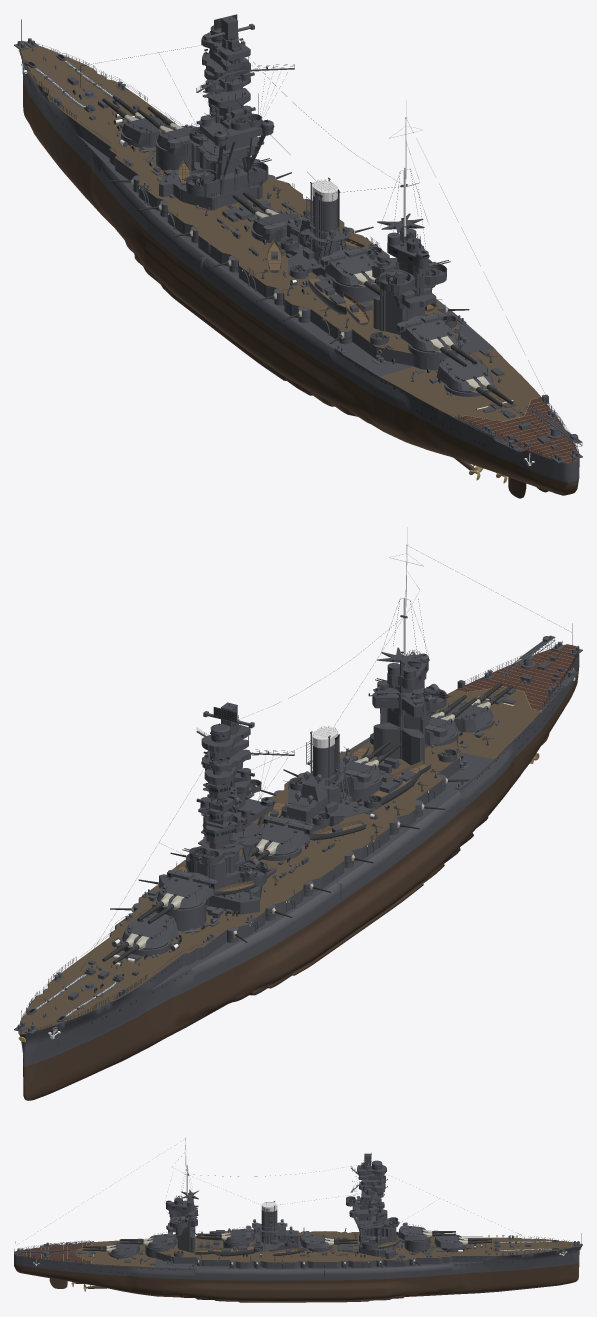
The model's file is fuso.glb.
3 renders of one model, top to bottom at view 1: azimuth 30°, elevation 25°; view 2: azimuth 150°, elevation 25°; view 3: azimuth 270°, elevation 25°, orthographic. The views are drawn at different scales.
Visible parts, largest first — view 1: Blueprint lofted hull, main-5.yaw.mesh, deckhouse-059.mesh, main-4.yaw.mesh, main-6.yaw.mesh, funnel-fittings.mesh, deckhouse-176.mesh, main-3.yaw.mesh, main-1.yaw.mesh, main-2.yaw.mesh, funnel.mesh, deck-rails.mesh (+8 smaller); view 2: Blueprint lofted hull, main-2.yaw.mesh, main-3.yaw.mesh, deckhouse-176.mesh, main-1.yaw.mesh, deckhouse-059.mesh, main-6.yaw.mesh, main-4.yaw.mesh, funnel-fittings.mesh, deck-rails.mesh, main-2.mesh, motor-boat-port.mesh (+2 smaller); view 3: Blueprint lofted hull, main-4.yaw.mesh, main-2.yaw.mesh, main-3.yaw.mesh, main-5.yaw.mesh, main-1.yaw.mesh, funnel.mesh, main-6.yaw.mesh, deckhouse-059.mesh, funnel-fittings.mesh, motor-boat-starboard.mesh, deckhouse-176.mesh (+4 smaller).
Boxes of the visible parts, x1,y1,x2,y2 form: Blueprint lofted hull: [19, 40, 579, 495]; main-5.yaw.mesh: [397, 312, 457, 351]; deckhouse-059.mesh: [159, 159, 262, 210]; main-4.yaw.mesh: [320, 246, 373, 285]; main-6.yaw.mesh: [436, 352, 493, 391]; funnel-fittings.mesh: [310, 177, 339, 250]; deckhouse-176.mesh: [373, 296, 424, 335]; main-3.yaw.mesh: [252, 209, 302, 241]; main-1.yaw.mesh: [122, 113, 175, 145]; main-2.yaw.mesh: [157, 123, 199, 155]; funnel.mesh: [312, 195, 337, 248]; deck-rails.mesh: [19, 43, 579, 459]; Blueprint lofted hull: [18, 644, 579, 1100]; main-2.yaw.mesh: [157, 869, 217, 908]; main-3.yaw.mesh: [254, 816, 312, 854]; deckhouse-176.mesh: [373, 723, 424, 765]; main-1.yaw.mesh: [122, 910, 178, 948]; deckhouse-059.mesh: [159, 874, 262, 914]; main-6.yaw.mesh: [439, 699, 493, 731]; main-4.yaw.mesh: [339, 758, 381, 790]; funnel-fittings.mesh: [310, 726, 339, 803]; deck-rails.mesh: [20, 641, 578, 1033]; main-2.mesh: [156, 896, 206, 930]; motor-boat-port.mesh: [372, 769, 419, 805]; Blueprint lofted hull: [14, 1231, 582, 1302]; main-4.yaw.mesh: [225, 1225, 254, 1243]; main-2.yaw.mesh: [398, 1222, 428, 1240]; main-3.yaw.mesh: [300, 1231, 329, 1248]; main-5.yaw.mesh: [147, 1232, 176, 1248]; main-1.yaw.mesh: [434, 1233, 464, 1248]; funnel.mesh: [261, 1210, 277, 1235]; main-6.yaw.mesh: [110, 1241, 139, 1255]; deckhouse-059.mesh: [359, 1234, 396, 1259]; funnel-fittings.mesh: [261, 1201, 277, 1240]; motor-boat-starboard.mesh: [215, 1245, 254, 1256]; deckhouse-176.mesh: [177, 1227, 195, 1252].
Size of the model in its own units: 36.3 by 64.89 by 213.
19 materials, 11 textured.
